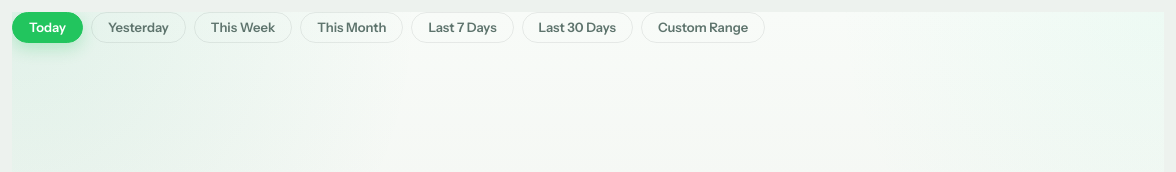
it: DatePresetSelector › should show custom date inputs when Custom clicked
Check: the field labelled "Start date" is not shown
Step 1. Click the button "Custom Range" → click(703, 28), box [641,12,765,43]
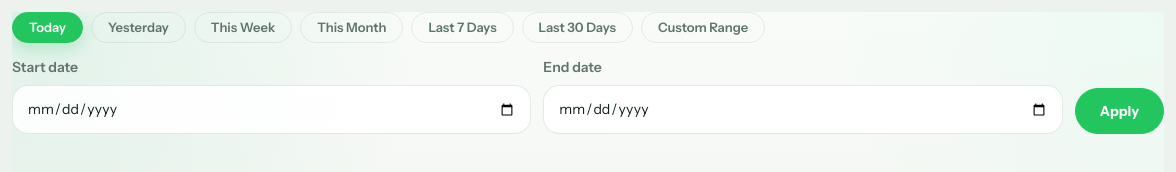
Check: the button "Apply" is shown, box [1075,88,1164,134]
